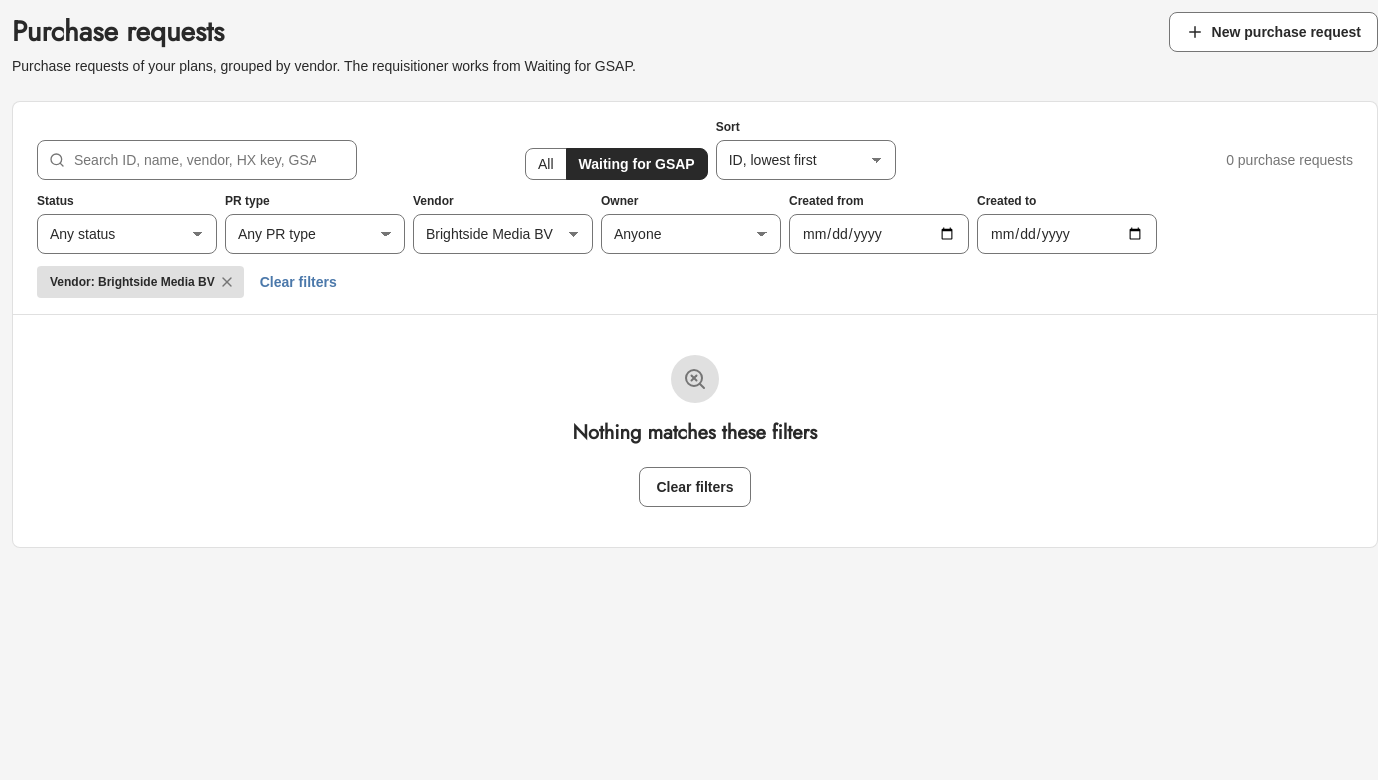
Test case: 032 FR-044–FR-048: Purchase requests page › offers Clear filters when nothing matches
Expected: the text "Nothing matches these filters" is shown, [573,419,817,447]
Click the button "Clear filters" below "Nothing matches these filters".
click(695, 487)  # box [640,467,750,507]
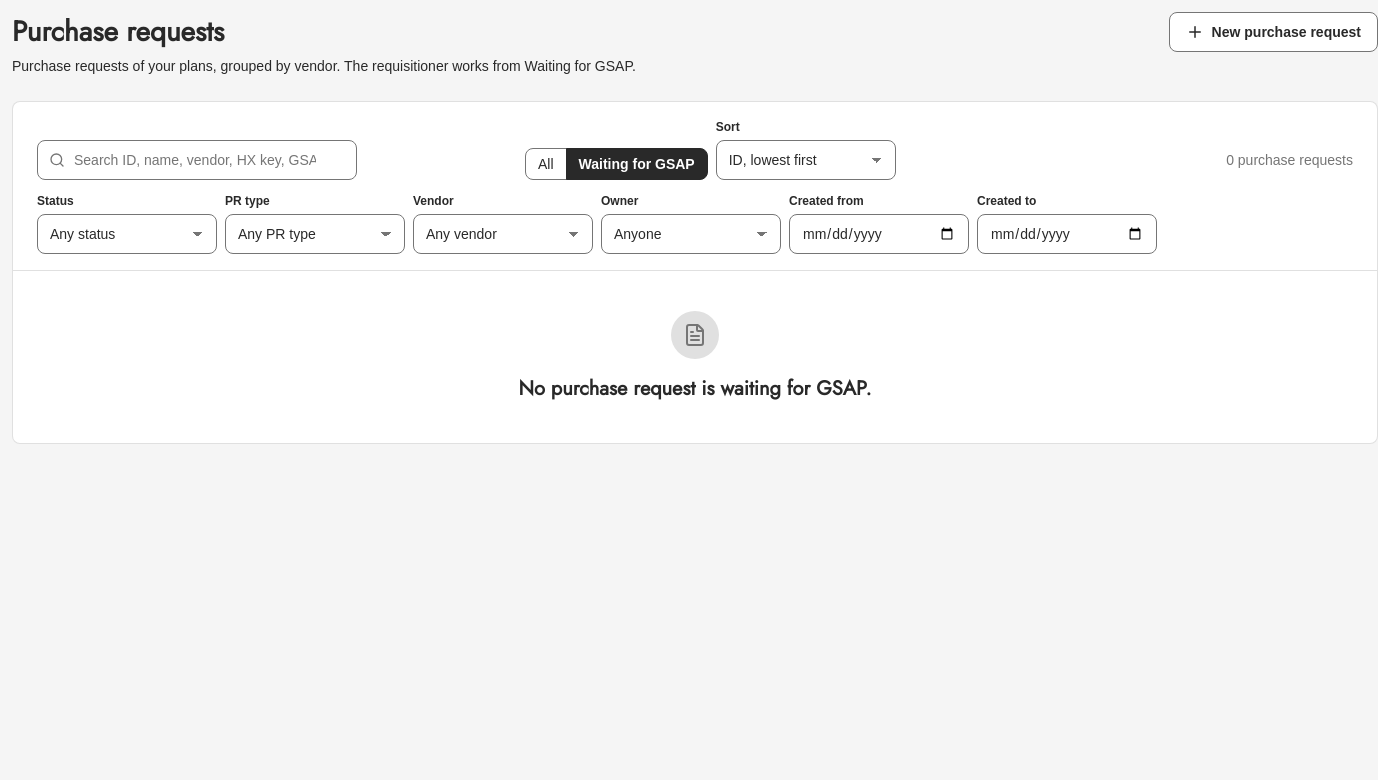
Now the text "No purchase request is waiting for GSAP." is shown, box [518,375,872,403]
